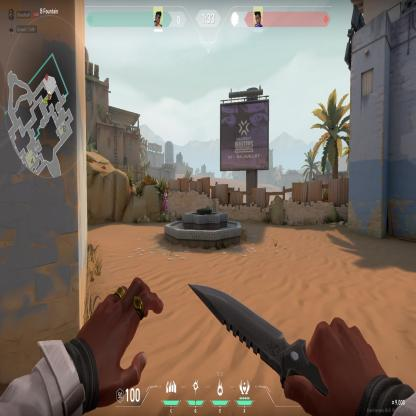enemy: (163, 188, 168, 215)
